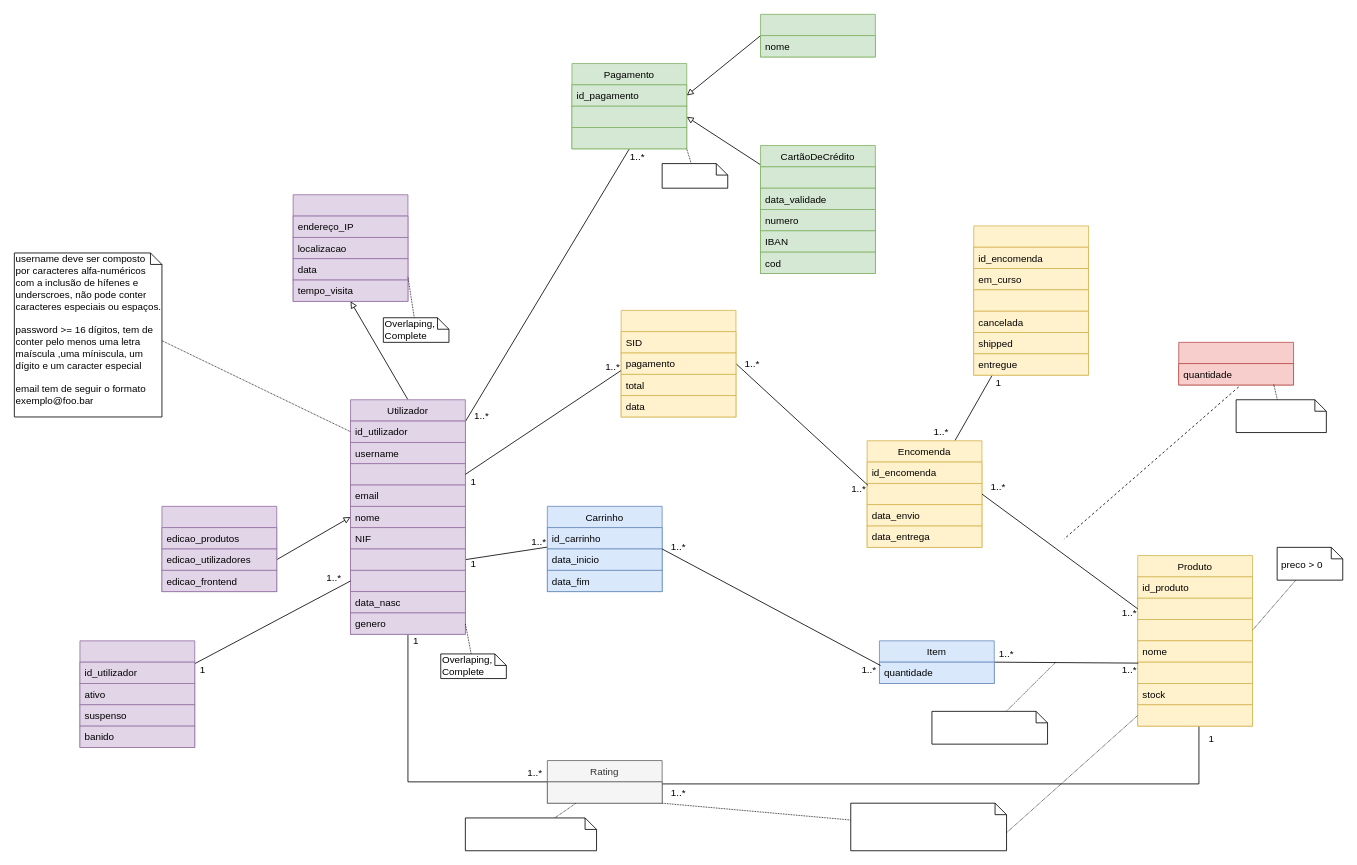
The diagram is 1357 pixels wide and 865 high, and some of its shapes have lost their labels. The box of each missing label's shape, as (x1, y1, x2, y2) in pixels:
Administrador: (161, 506, 277, 592)
atual: (571, 127, 687, 149)
categoria: (1137, 597, 1253, 620)
cod_postal: (350, 569, 465, 592)
descricao: (1137, 661, 1253, 683)
Disjoint, Partial: (661, 163, 728, 188)
em_espera: (973, 289, 1089, 311)
EstadoEncomenda: (973, 225, 1089, 375)
EstadoUtilizador: (79, 640, 195, 747)
Fatura: (620, 310, 736, 417)
img: (1137, 704, 1253, 726)
morada: (350, 548, 465, 570)
password: (350, 463, 465, 485)
PayPal: (760, 14, 875, 57)
portes: (866, 483, 982, 505)
preco: (1137, 619, 1253, 641)
quantidade <= stock: (931, 711, 1048, 744)
quantidade > 0: (1235, 399, 1326, 433)
Rating médio é igual à média dos ratings dados aos produtos: (850, 802, 1007, 851)
tipo: (760, 166, 875, 188)
tipo_de_pagamento: (571, 105, 687, 128)
valor: (547, 781, 662, 803)
valor >= 0 and valor <= 5: (465, 817, 597, 851)
Visitante: (292, 194, 408, 301)
